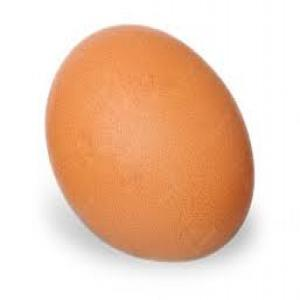Egg: (45, 22, 256, 265)
